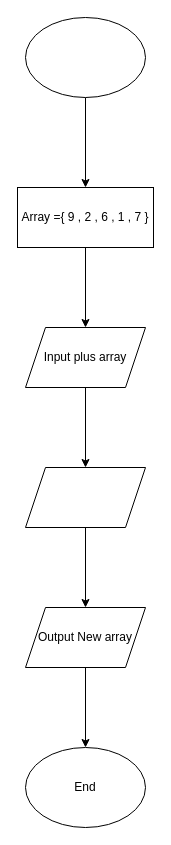
The diagram is 171 pixels wide and 845 high, and some of its shapes have lost their labels. The shapes that lost their labels are listed below. From the top down, each one's centre as x and y in pixels, then its label:
(85,57): Start
(85,497): Output old array
